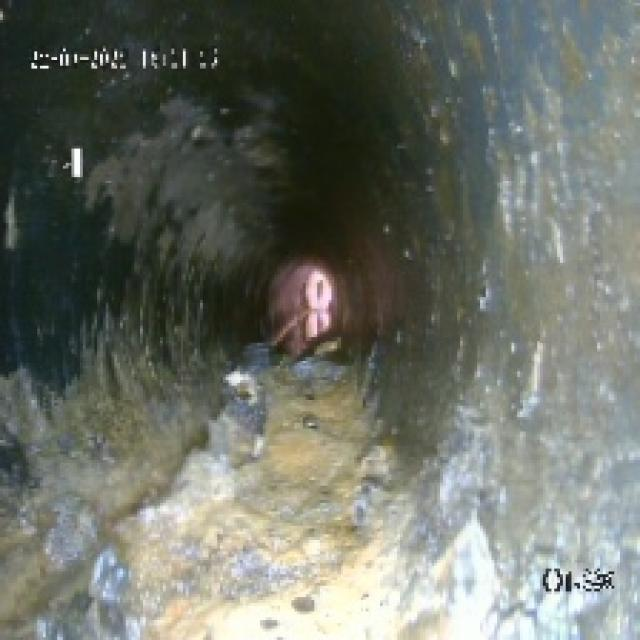sluge accumulation: (123, 352, 486, 634)
